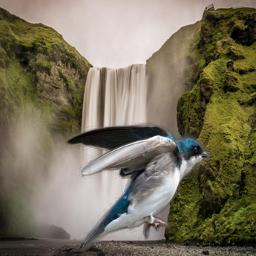Swallow: (66, 122, 210, 252)
